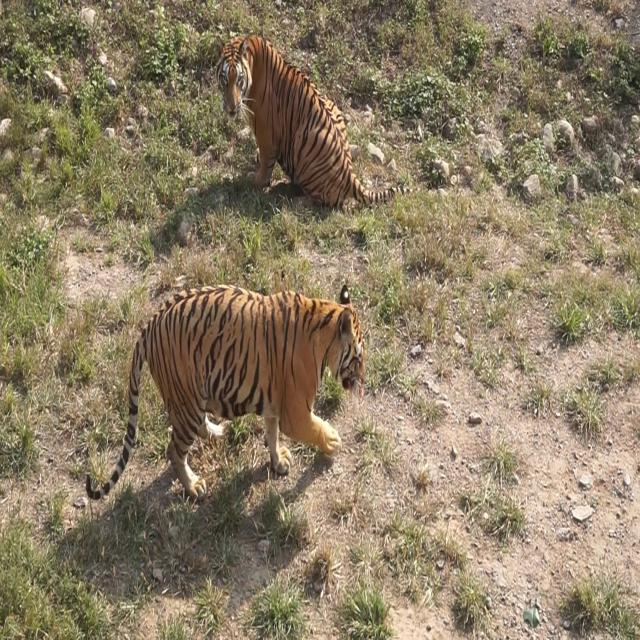Tiger: (75, 278, 368, 506), (214, 34, 411, 207)
